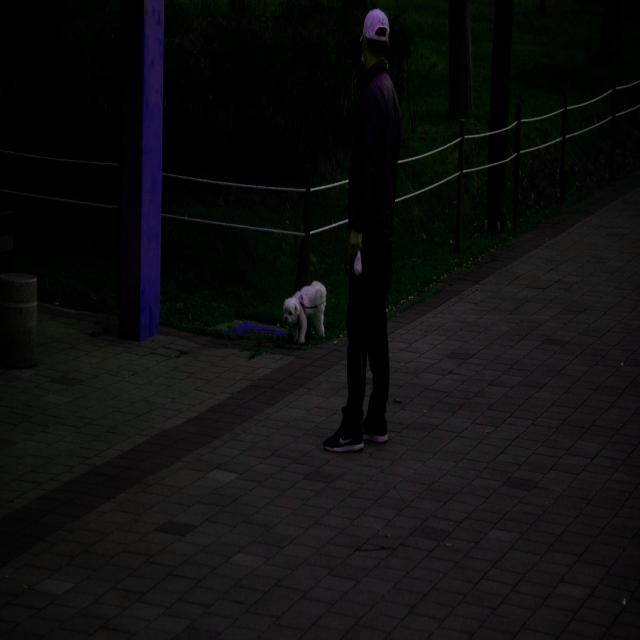Leashed_Dog: (282, 256, 365, 344)
